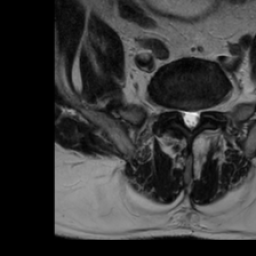CCS_normal: (187, 101, 193, 136)
LFS_severe_stenosis: (203, 101, 209, 119)
LLS_normal: (193, 103, 201, 125)
RFS_severe_stenosis: (173, 100, 181, 120)
RLS_stenosis: (181, 103, 188, 126)
